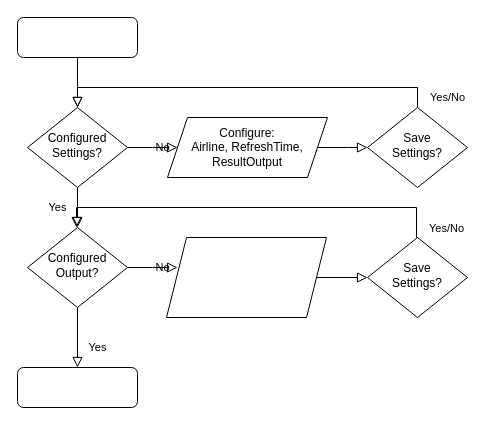
This 485x425 diagram has some shape labels left out. The box of each missing label's shape, as (x1, y1, x2, y2) in pixels:
Configure: FlightCode, Origin Variables, Destination Variables, Status: (166, 236, 326, 318)
Output Data Board: (16, 366, 138, 408)
Start: (16, 16, 138, 58)
